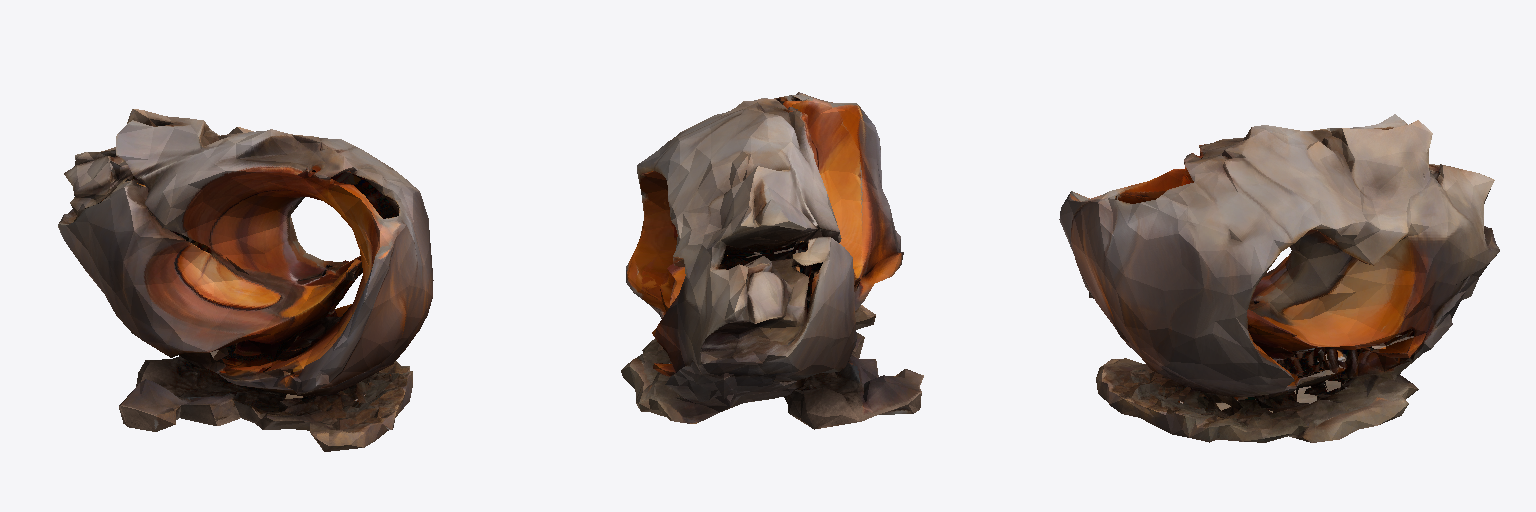
3 views of the same model, side by side, from view 1: azimuth 30°, elevation 25°; view 2: azimuth 150°, elevation 25°; view 3: azimuth 270°, elevation 25° (orthographic).
Visible parts, largest first — view 1: estatuanueva6; view 2: estatuanueva6; view 3: estatuanueva6.
Boxes of the visible parts, x1=… form: estatuanueva6: x1=58, y1=109, x2=433, y2=451; estatuanueva6: x1=621, y1=92, x2=923, y2=429; estatuanueva6: x1=1059, y1=114, x2=1499, y2=442.
Bounding box in the file's own units: 8.46 × 7.28 × 11.17.
1 materials, 1 textured.